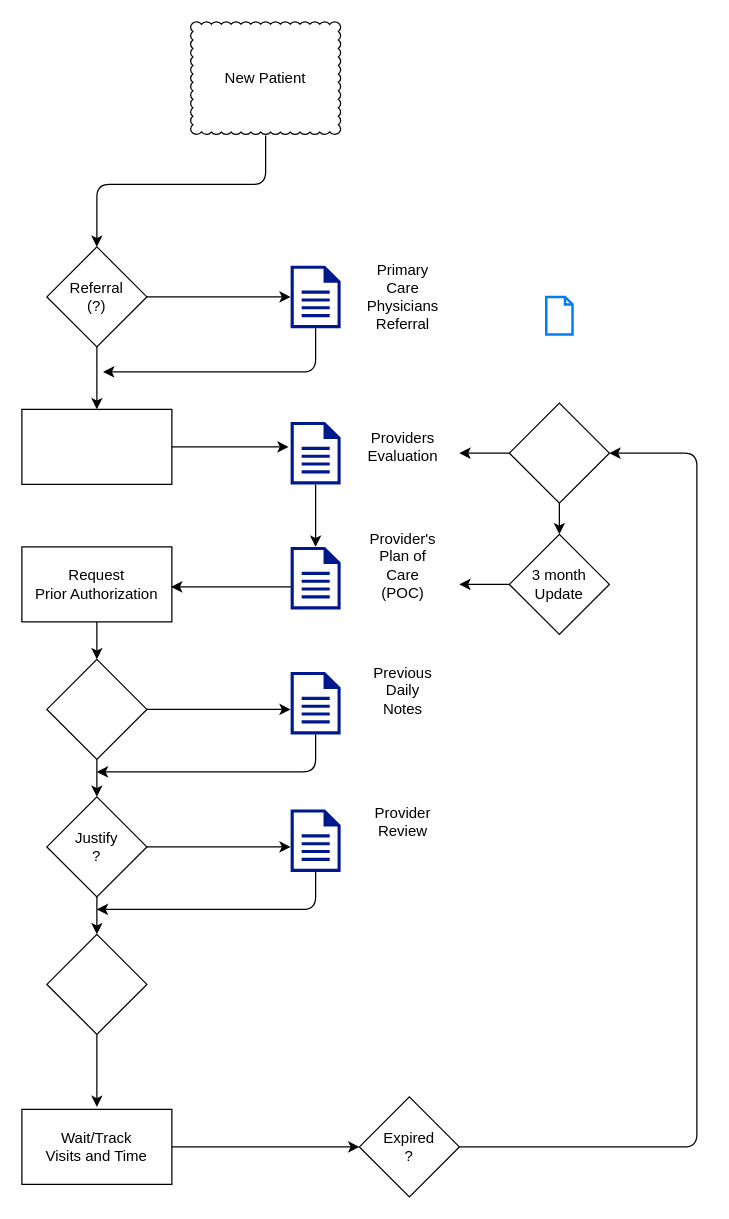
Image size: 729x1219. Some labels were removed from this diagram. Here are the shapes that lost their labels. From the top down, the box of each, then its label:
(21, 408, 172, 484): First Visit (Evaluation)
(508, 402, 609, 503): ReEval Yrly
(46, 658, 147, 759): RFI Rqstd ?
(46, 933, 147, 1034): Approved
